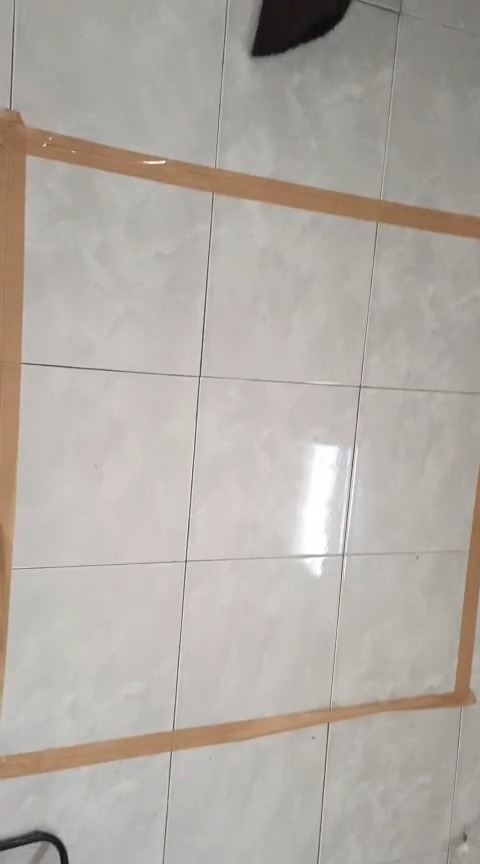floor marking: (0, 110, 479, 695), (0, 474, 479, 778)
